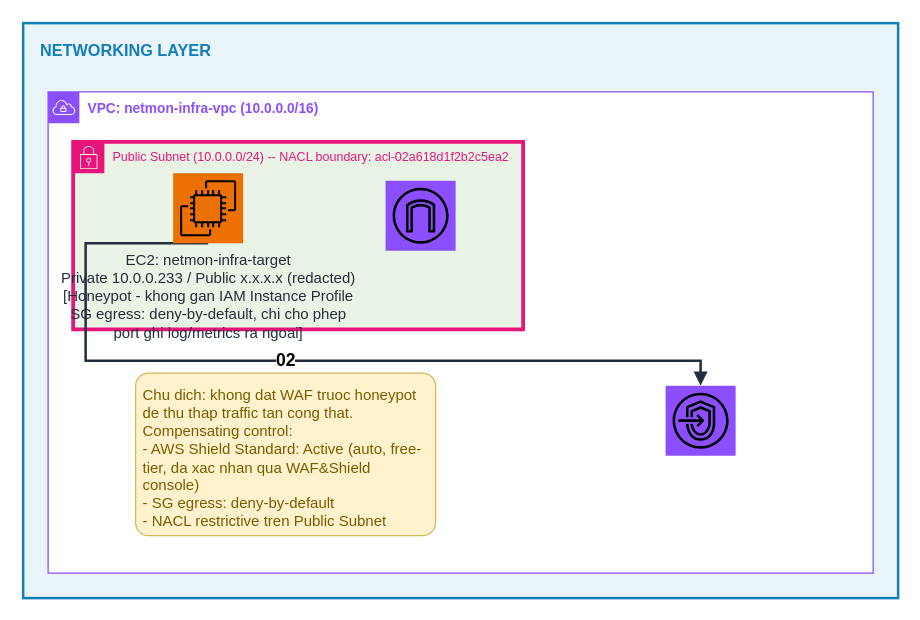
The diagram is 920 pixels wide and 620 high, and some of its shapes have lost their labels. The centre of each missing label's shape, as x and y in pixels:
"Internet Gateway netmon-infra-igw" belongs at pixel 420 215.
"VPC Flow Logs (cap VPC) ALL: ACCEPT+REJECT, 1min" belongs at pixel 700 420.
